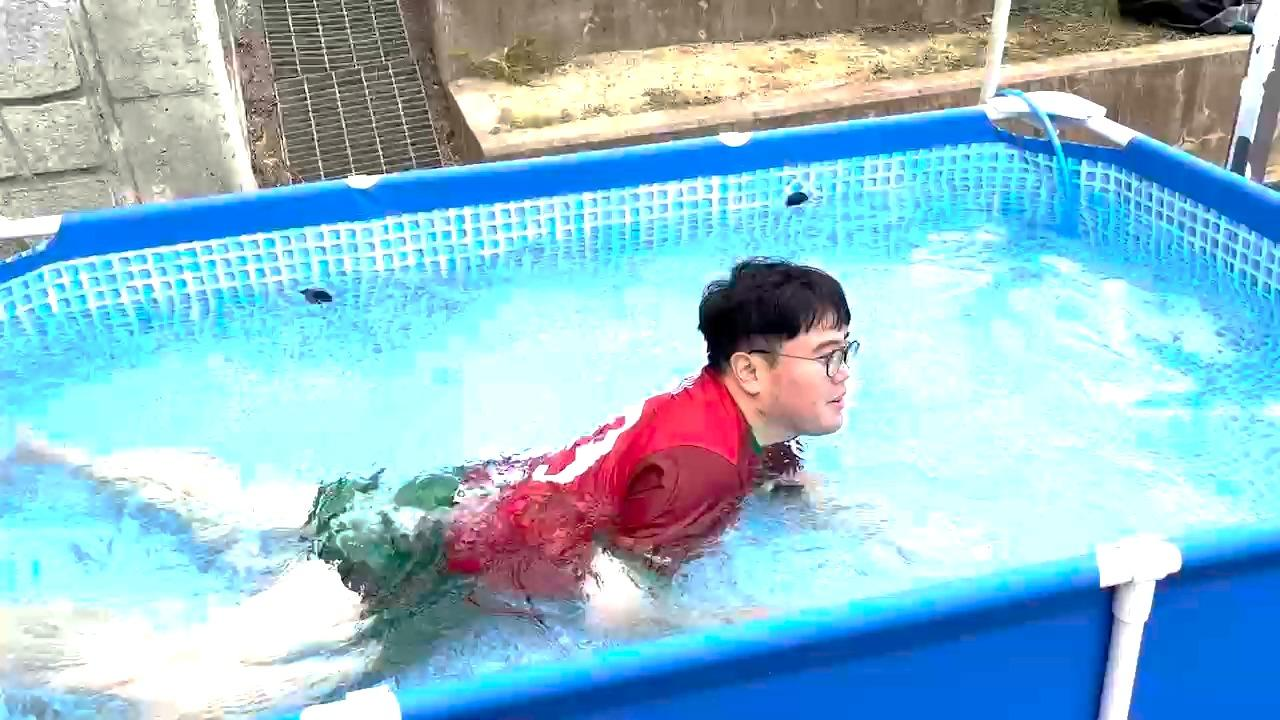Swimming: (0, 243, 921, 668)
